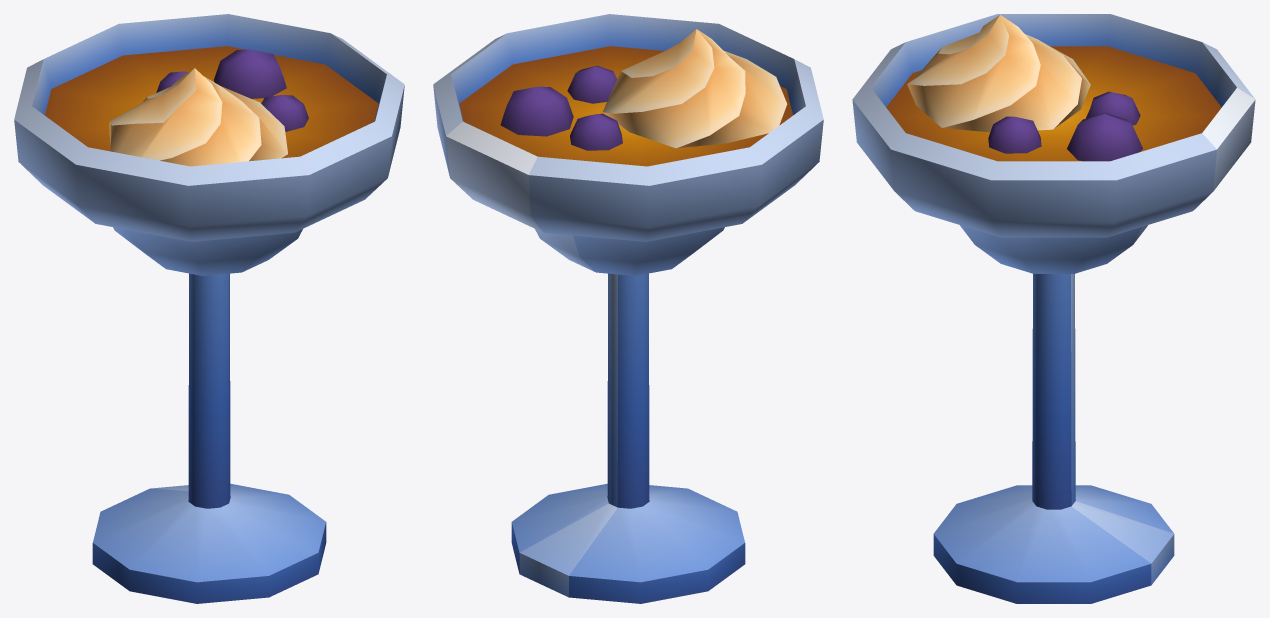
Rendered from m_Cocktail29.fbx.
The picture shows the model from 3 angles, left to right: view 1: azimuth 30°, elevation 25°; view 2: azimuth 150°, elevation 25°; view 3: azimuth 270°, elevation 25°; orthographic projection.
Parts seen in each view (by area): view 1: m_Cocktail29; view 2: m_Cocktail29; view 3: m_Cocktail29.
Part boxes in pixels (bbox=[...]): m_Cocktail29: bbox=[14, 14, 404, 603]; m_Cocktail29: bbox=[433, 14, 823, 603]; m_Cocktail29: bbox=[852, 14, 1255, 603].
Size of the model in its own units: 15.92 by 23.84 by 16.74.
